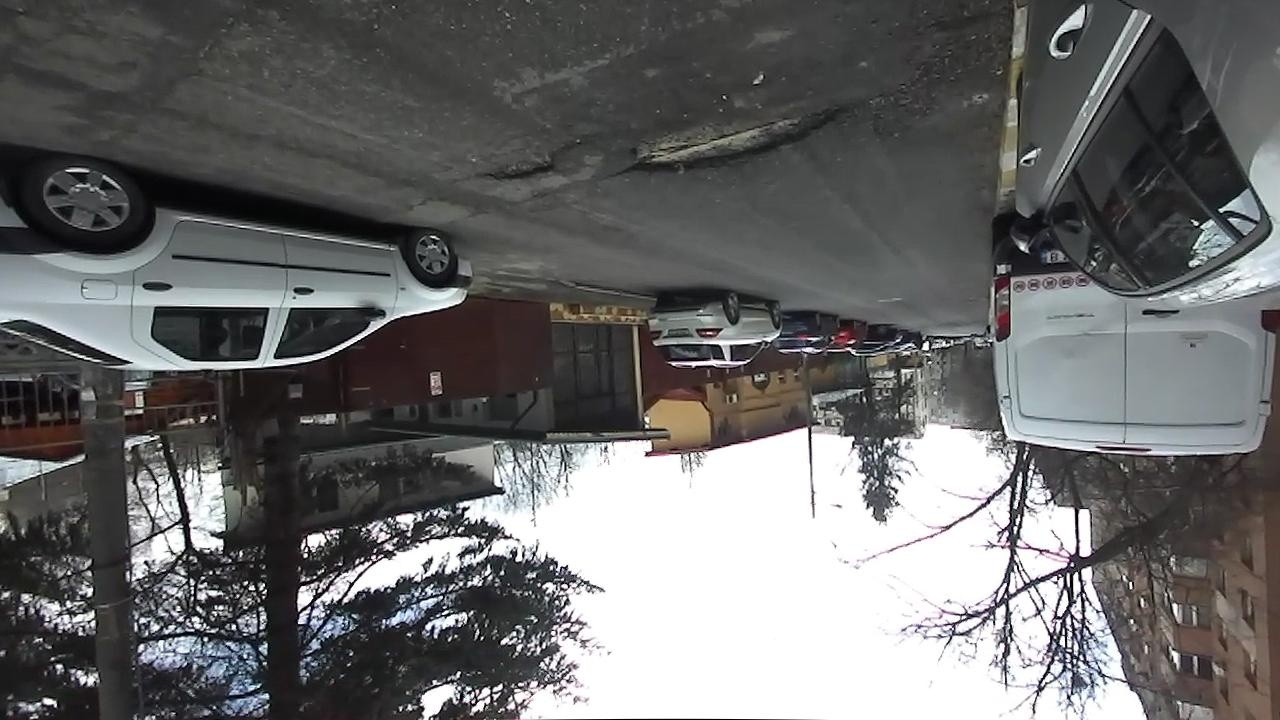pothole: (616, 94, 858, 179), (472, 142, 572, 183)
